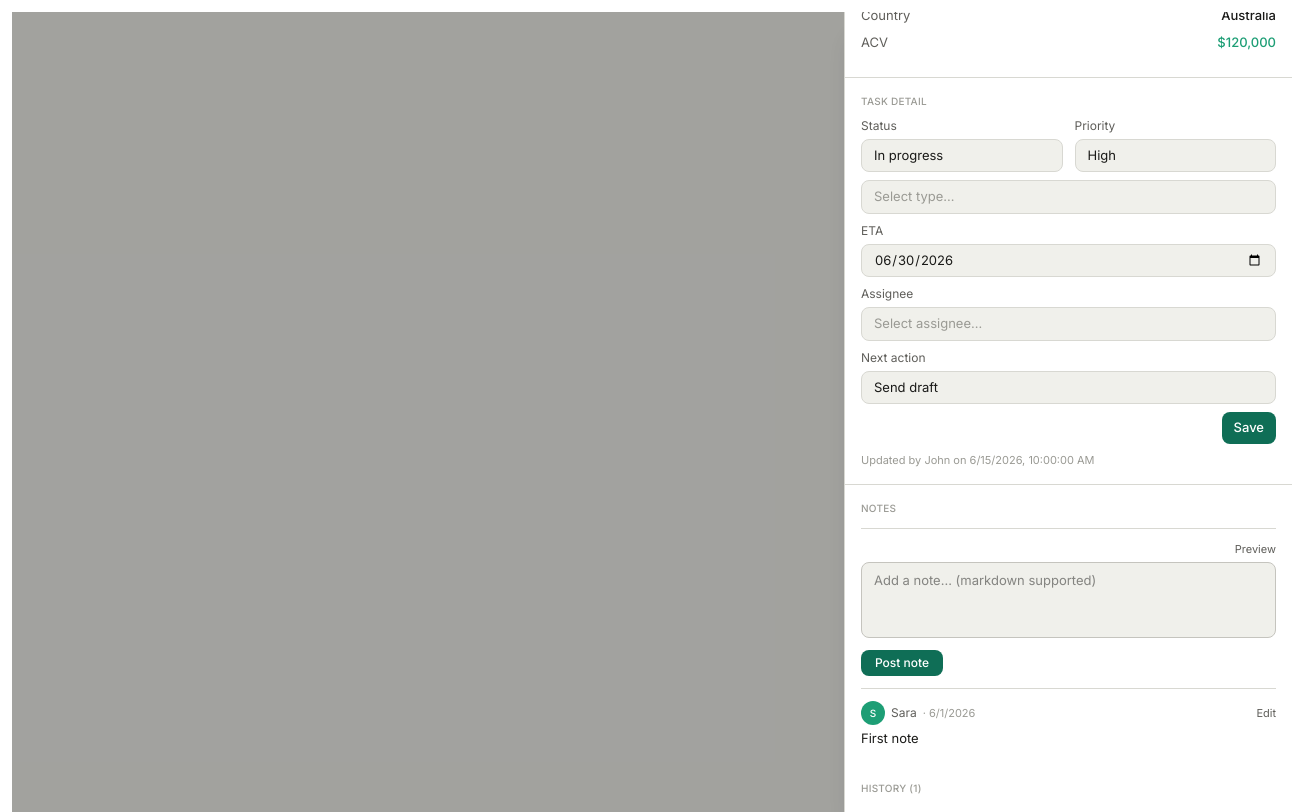
Test: TaskSidePanel › shows the task's own audit history in the collapsed History section
(page scrolled)
Expected: the text "History (1)" is shown, [861,780,922,796]
Click the button "History (1)" at (884, 788), box [861,780,1276,796]
(page scrolled)
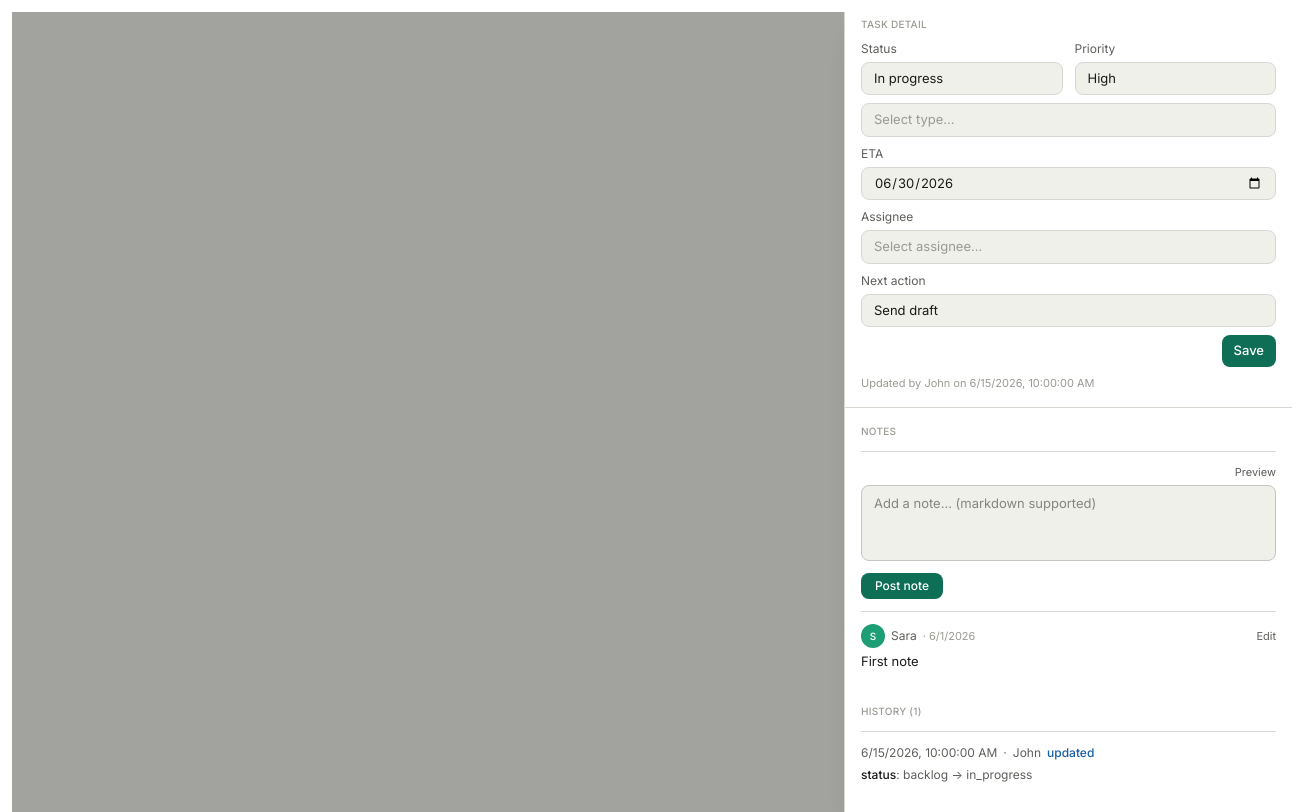
Result: the text "John" is shown at [1013,744,1041,762]
Result: the list item "status: backlog → in_progress" is shown at [861,766,1032,782]
